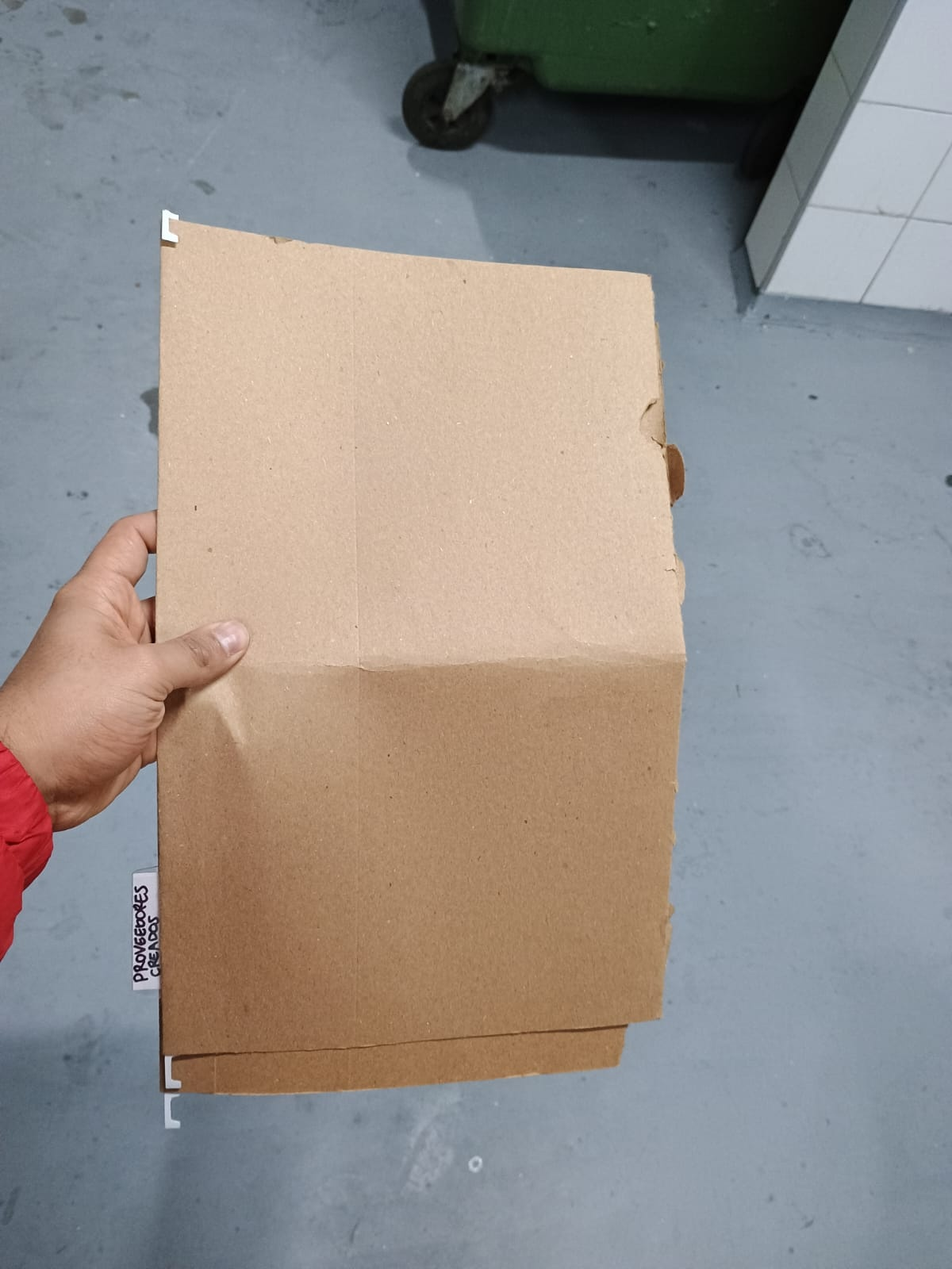Carton: (161, 211, 685, 1094)
